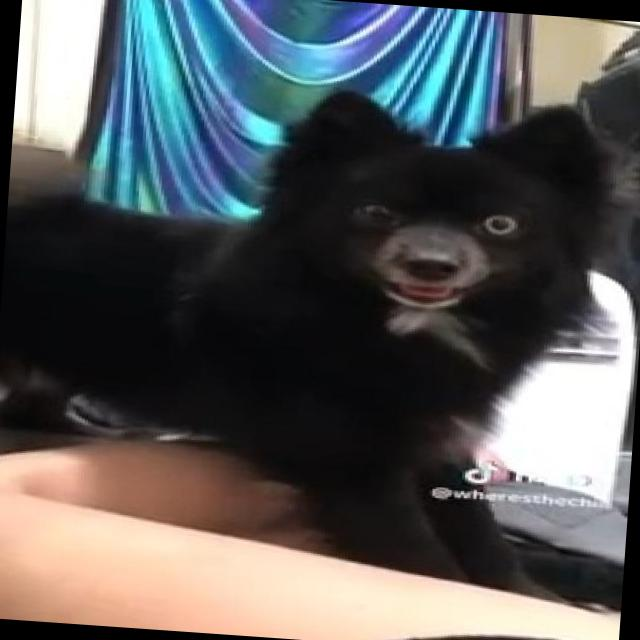dog: (1, 91, 612, 465)
